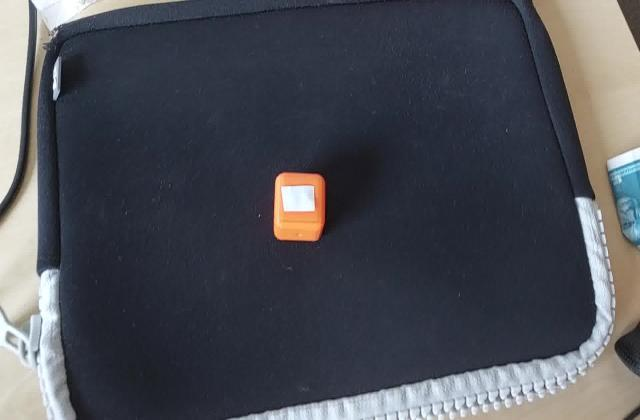sticker: (270, 172, 328, 245)
white: (280, 182, 320, 214)
